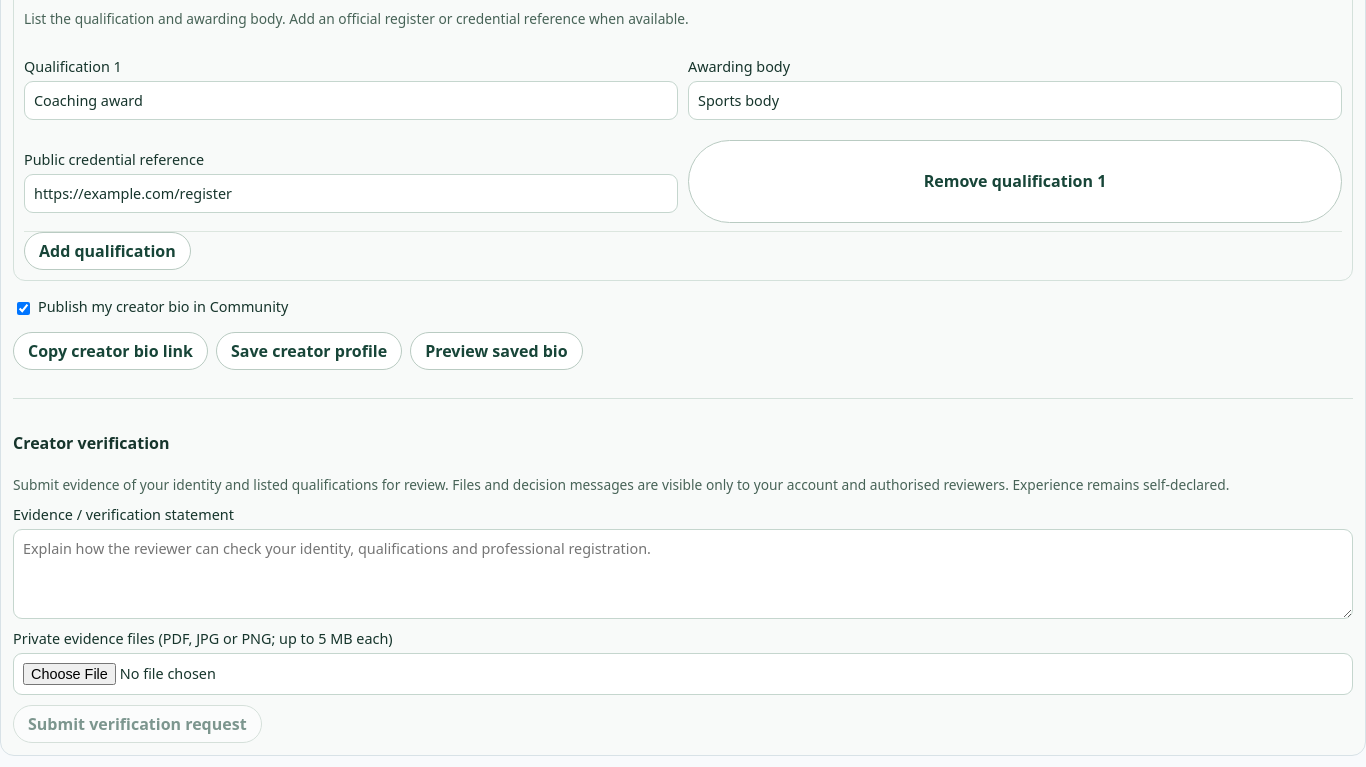
Test: creator biography and verification › submits explicit evidence only for the selected saved profile
(page scrolled)
Replace the text in the text box labelled "Evidence / verification statement" with "Please check my certificate.": (683, 574) x1=13 y1=529 x2=1353 y2=619
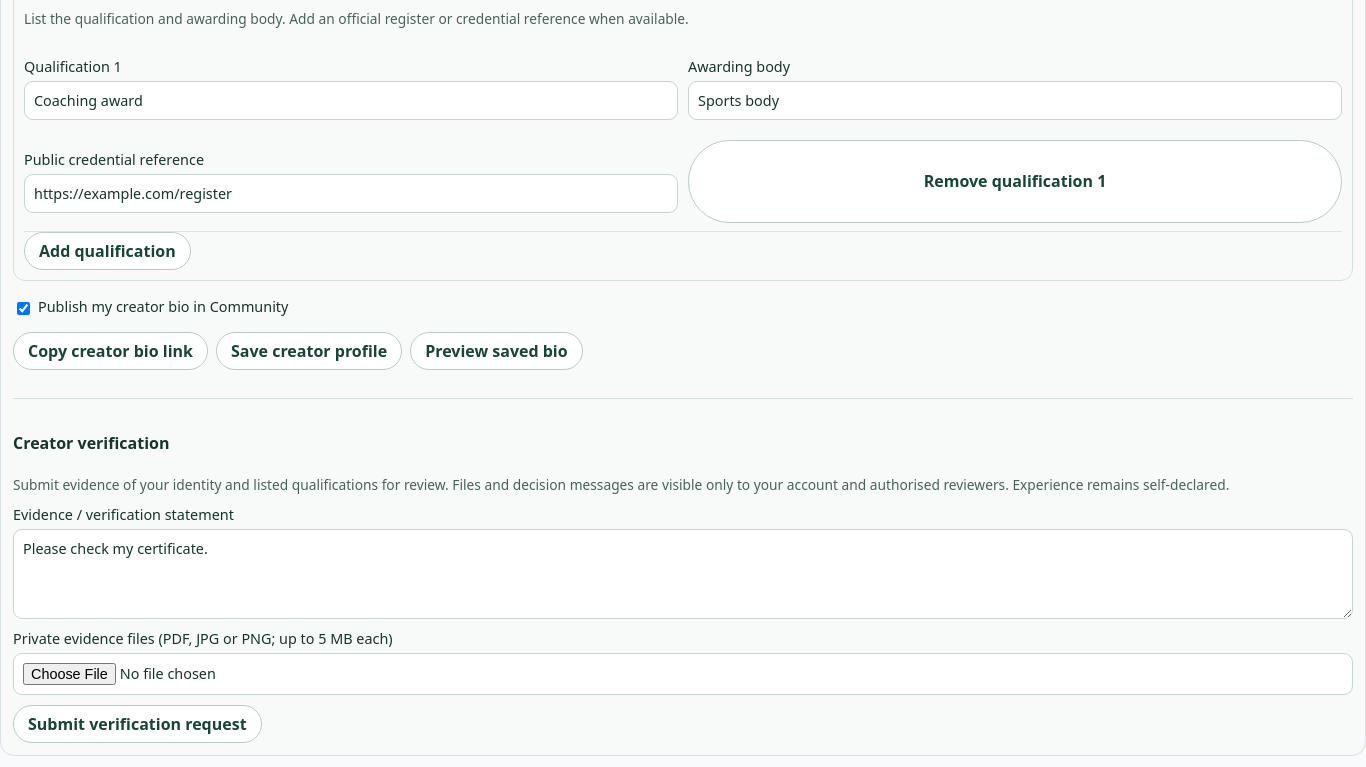
Click the button "Submit verification request": (137, 724) x1=13 y1=705 x2=262 y2=743
(page scrolled)
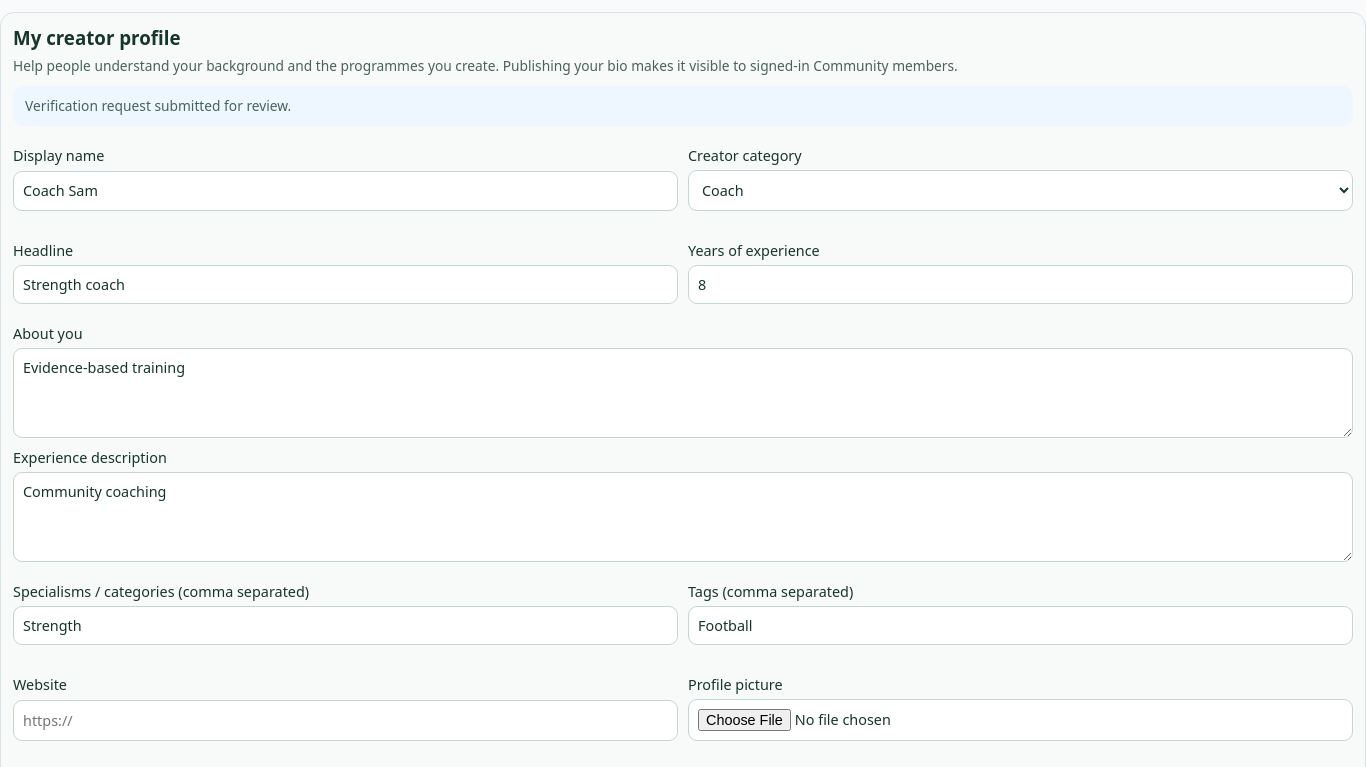
Now the text "Verification request submitted for review." is shown, box x1=13 y1=86 x2=1353 y2=126
